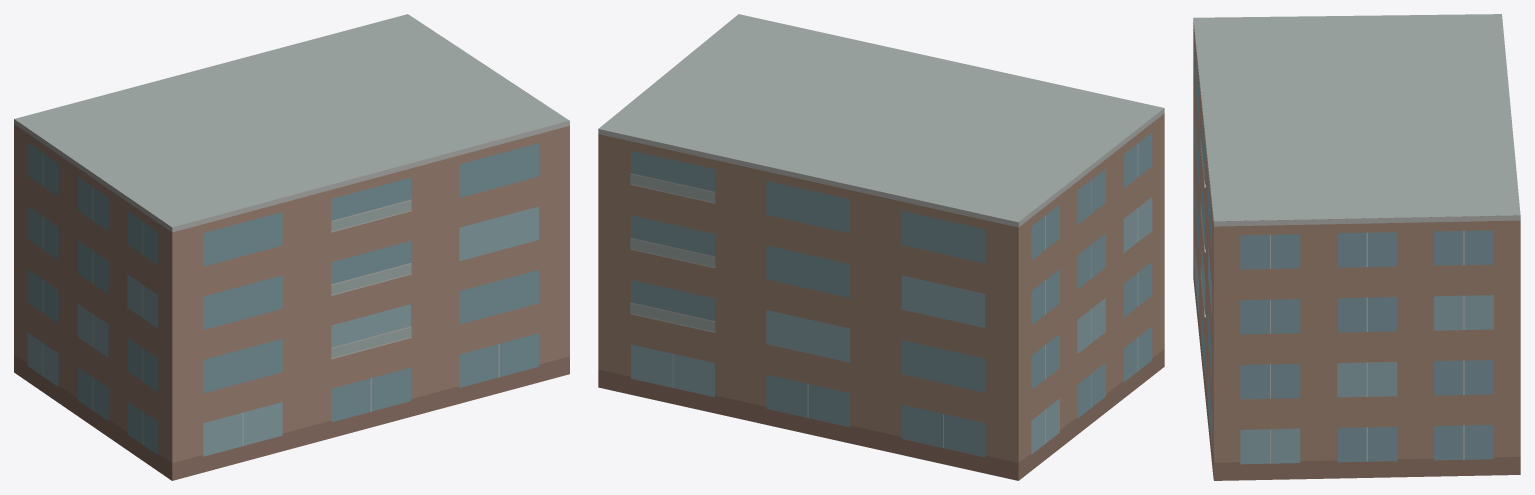
File: survey-upis-32768489.glb
The picture shows the model from 3 angles, left to right: view 1: azimuth 30°, elevation 25°; view 2: azimuth 150°, elevation 25°; view 3: azimuth 270°, elevation 25°; orthographic projection. The views are drawn at different scales.
Visible parts, largest first — view 1: survey-upis-32768489.tmp; view 2: survey-upis-32768489.tmp; view 3: survey-upis-32768489.tmp.
Part boxes in pixels (box(x1,y1,x2,y2)): survey-upis-32768489.tmp: box(14, 14, 569, 480); survey-upis-32768489.tmp: box(598, 14, 1164, 480); survey-upis-32768489.tmp: box(1193, 14, 1520, 480).
Size of the model in its own units: 20.92 by 12.2 by 13.95.
